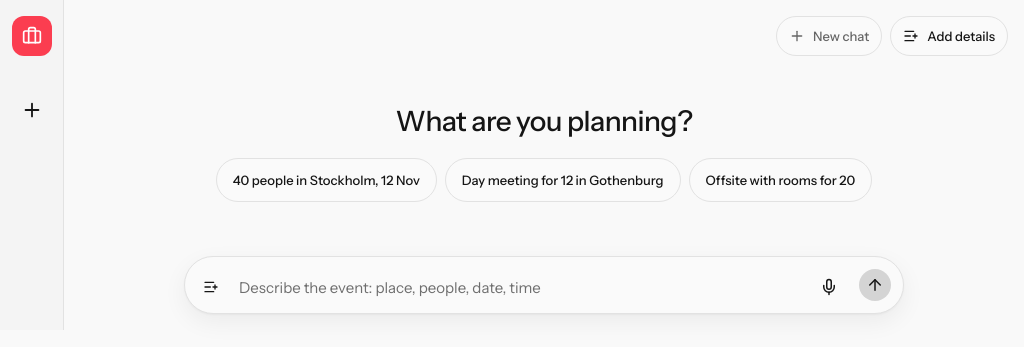
Test: composer microphone › explains a start failure and removes Speak
Click the button named "Speak" at (829, 287), box [809,267,849,307]
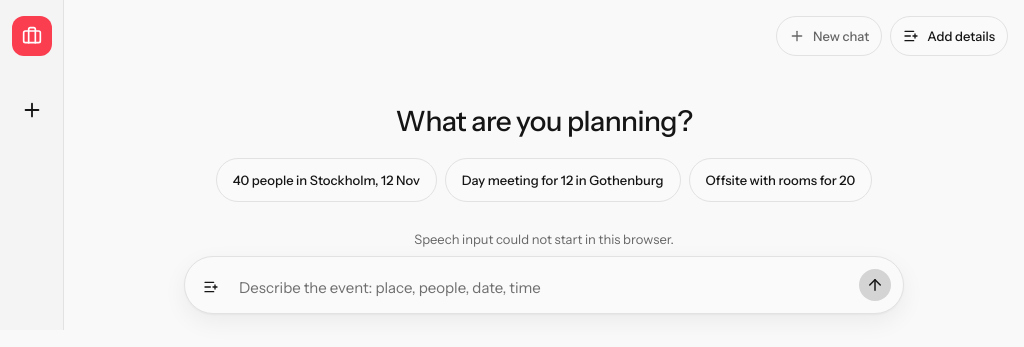
Expected: the button "Speak" is gone
Expected: the message reads "Speech input could not start in this browser.", [414,231,674,247]
